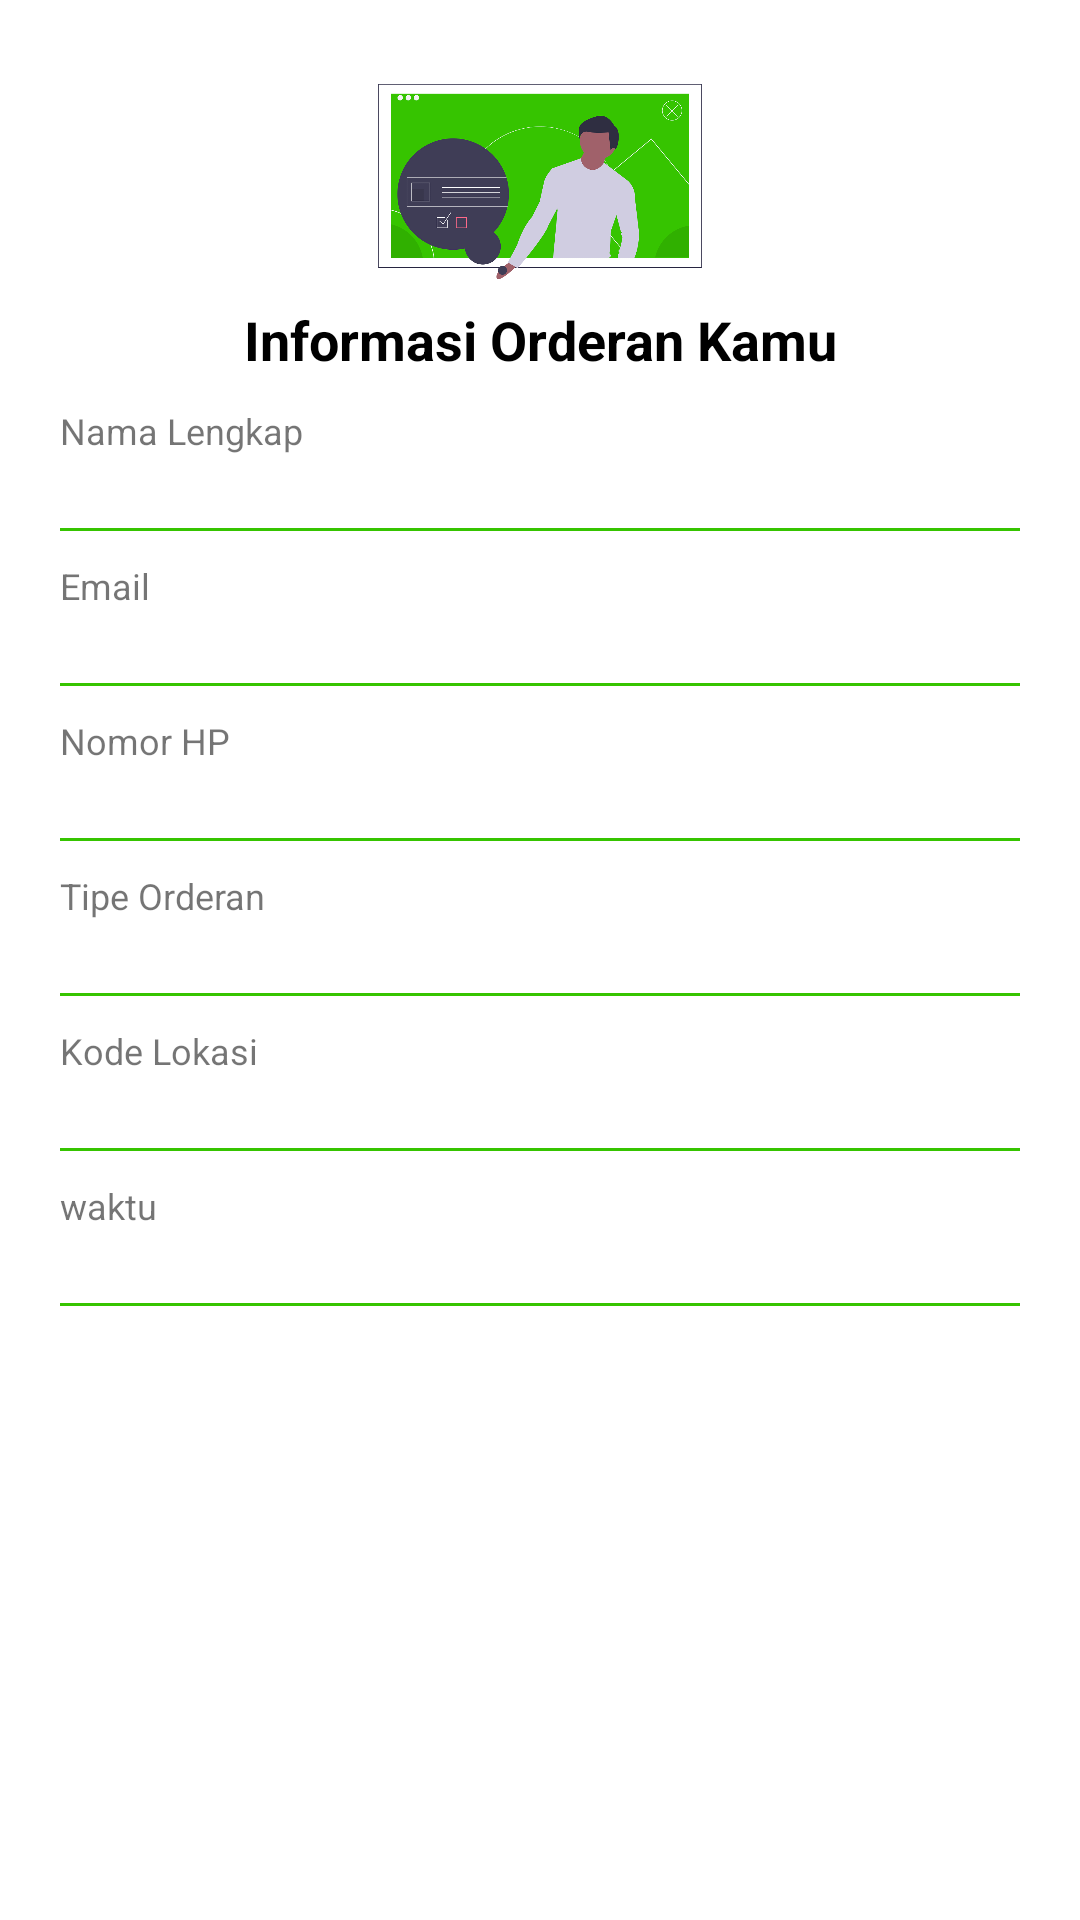

Named icons in this screenshot (1080px×1920px) and their centers, [x,y]:
undraw detailed informatio: [540,181]
